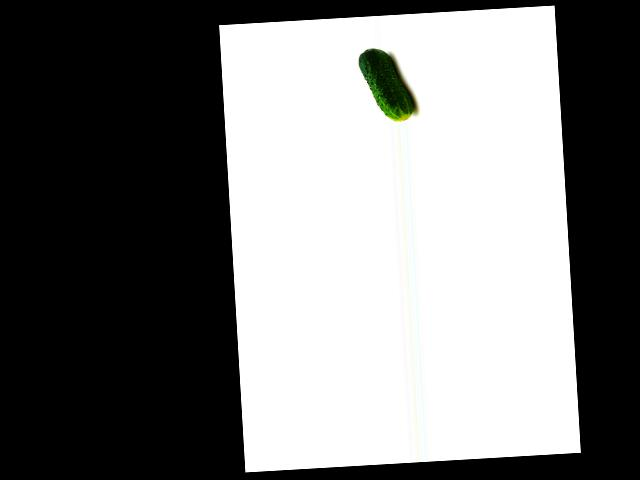cucumber: (357, 46, 414, 123)
